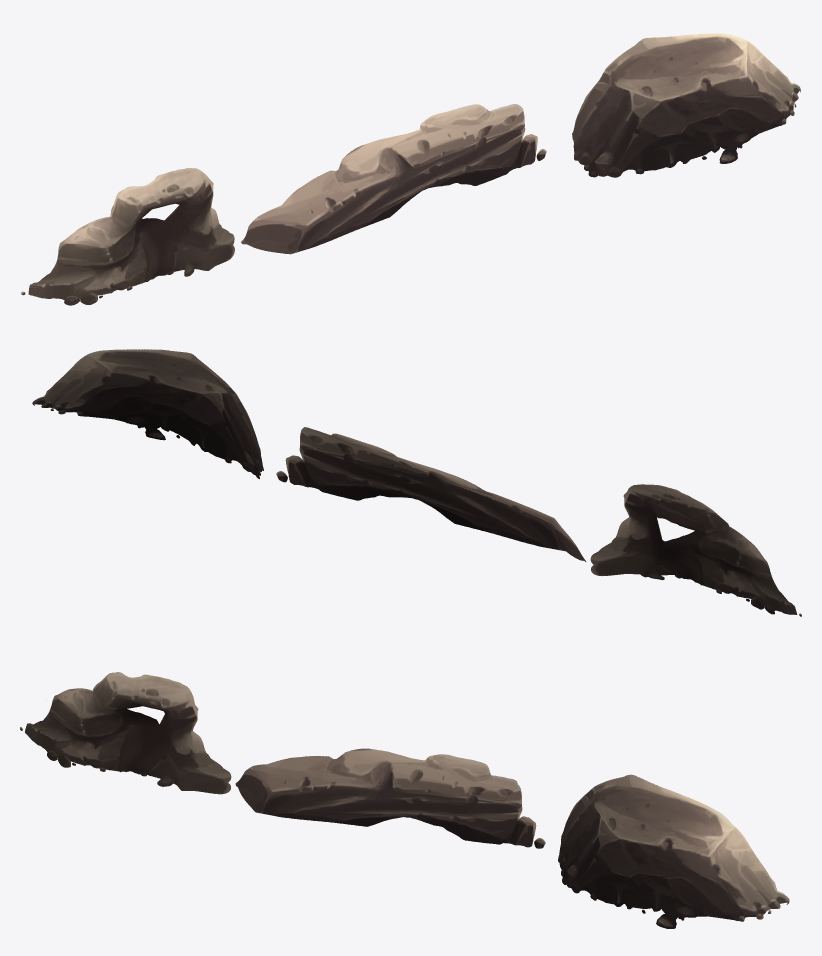
Rendered from Underwater Rocks Big.FBX.
3 views of the same model, one above another, from view 1: azimuth 30°, elevation 25°; view 2: azimuth 150°, elevation 25°; view 3: azimuth 330°, elevation 25° (orthographic).
Parts seen in each view (by area): view 1: Underwater Rock Big, Underwater Rock Long, Underwater Rock Hole; view 2: Underwater Rock Big, Underwater Rock Long, Underwater Rock Hole; view 3: Underwater Rock Big, Underwater Rock Long, Underwater Rock Hole.
Boxes of the visible parts, box(x1,y1,x2,y2) form: Underwater Rock Big: box(572, 33, 800, 177); Underwater Rock Long: box(241, 104, 546, 254); Underwater Rock Hole: box(21, 168, 234, 305); Underwater Rock Big: box(32, 349, 263, 478); Underwater Rock Long: box(276, 427, 586, 561); Underwater Rock Hole: box(590, 484, 801, 616); Underwater Rock Big: box(558, 774, 789, 928); Underwater Rock Long: box(235, 748, 545, 848); Underwater Rock Hole: box(20, 672, 231, 794).
Size of the model in its own units: 2274 by 219 by 427.
Materials: 1 (1 with a texture image).
